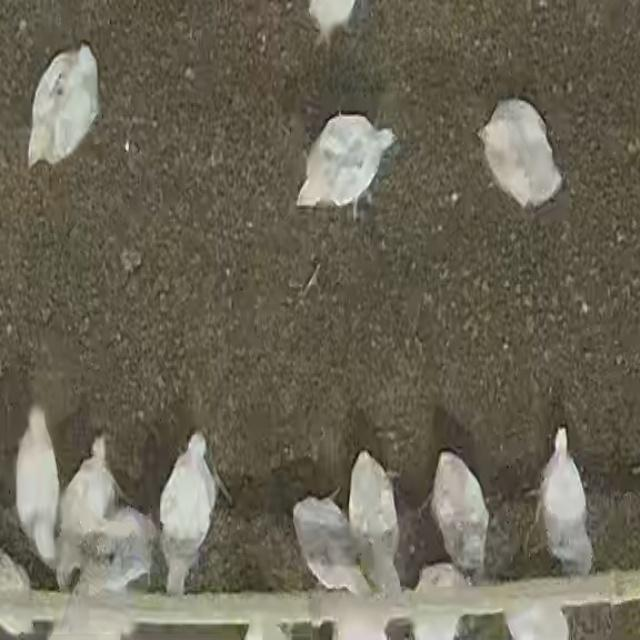chicken: (157, 429, 229, 595), (296, 111, 396, 213), (25, 41, 103, 171), (56, 434, 120, 590), (428, 446, 493, 586), (536, 426, 594, 577), (481, 99, 559, 206), (14, 406, 63, 574), (348, 451, 403, 598), (292, 491, 370, 594)
